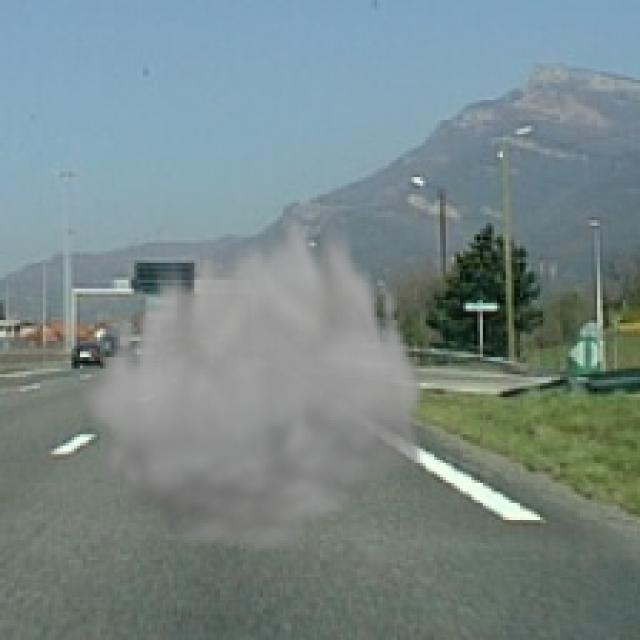smoke: (74, 200, 429, 560)
